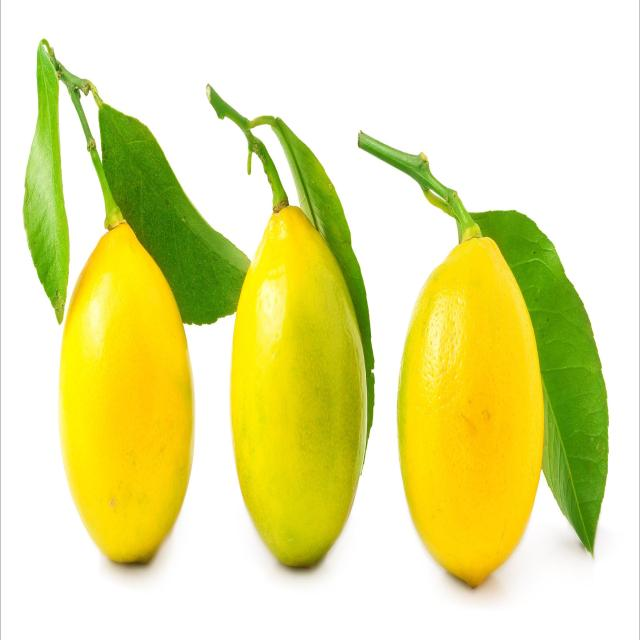lemon: (395, 225, 546, 596), (54, 213, 199, 569)
